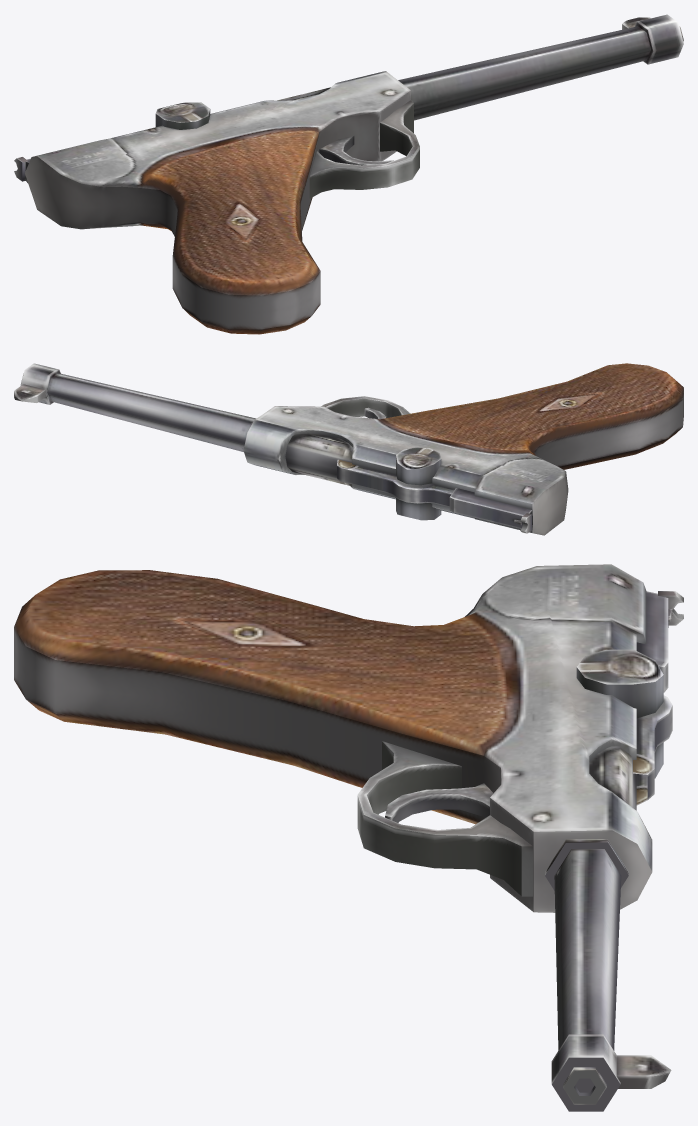
Rendered from ShaShouJia_01_lugeshouqiang_01.FBX.
3 views of the same model, one above another, from view 1: azimuth 30°, elevation 25°; view 2: azimuth 150°, elevation 25°; view 3: azimuth 270°, elevation 25° (orthographic). The views are drawn at different scales.
Parts seen in each view (by area): view 1: ShaShouJia_01_lugeshouqiang_01; view 2: ShaShouJia_01_lugeshouqiang_01; view 3: ShaShouJia_01_lugeshouqiang_01.
Part boxes in pixels (x1=…): ShaShouJia_01_lugeshouqiang_01: x1=14, y1=14, x2=683, y2=334; ShaShouJia_01_lugeshouqiang_01: x1=14, y1=363, x2=683, y2=535; ShaShouJia_01_lugeshouqiang_01: x1=14, y1=564, x2=683, y2=1111.
Size of the model in its own units: 211 by 21.36 by 124.
